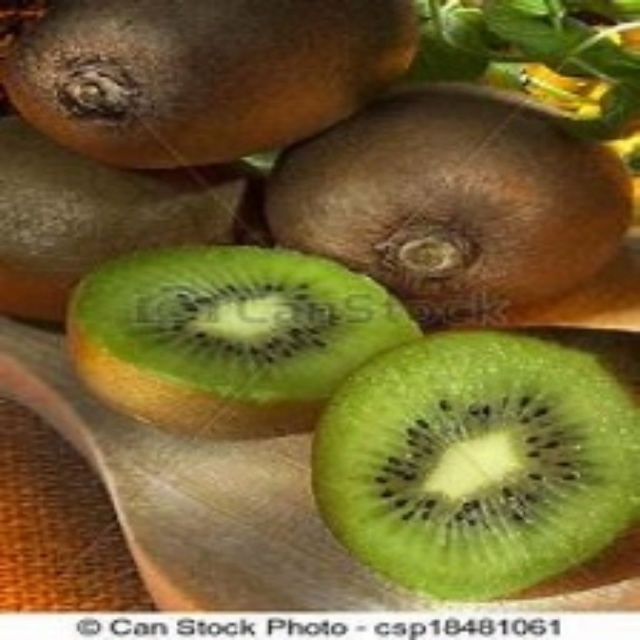kiwi: (264, 86, 616, 309), (355, 318, 635, 595), (56, 244, 419, 435), (16, 6, 429, 159)
